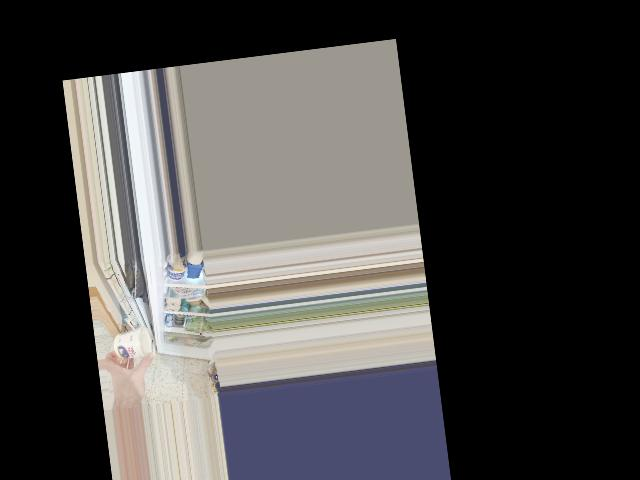cotage: (110, 326, 153, 362)
